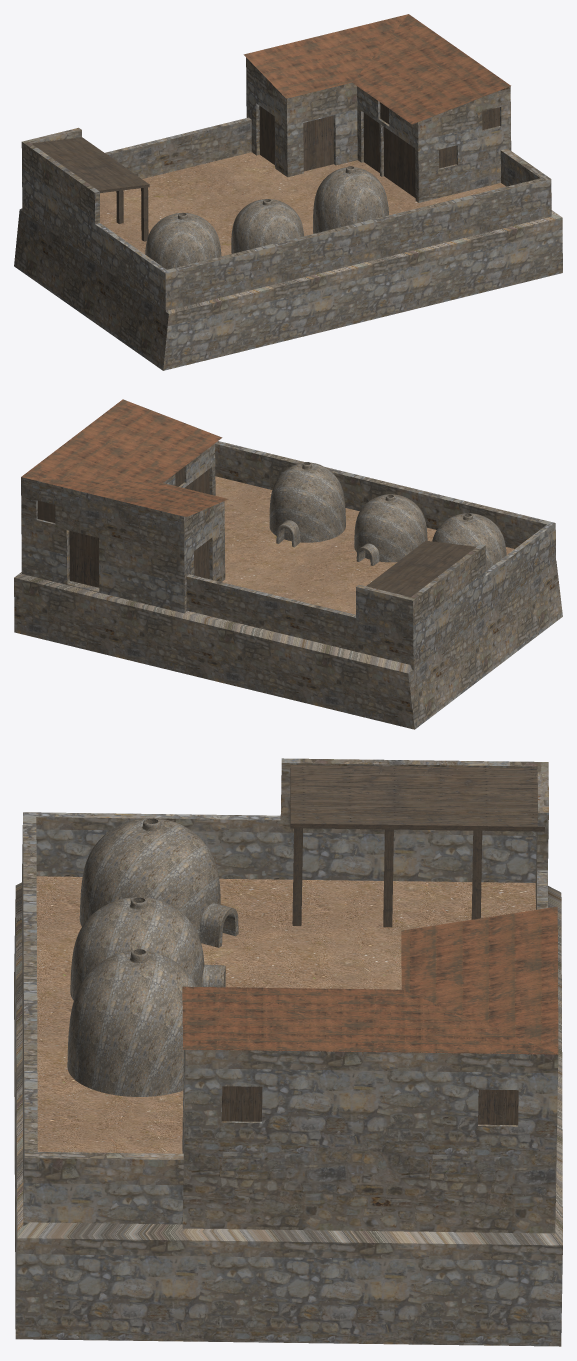
File: Ceramica.glb
The picture shows the model from 3 angles, top to bottom: view 1: azimuth 30°, elevation 25°; view 2: azimuth 150°, elevation 25°; view 3: azimuth 270°, elevation 25°; orthographic projection. The views are drawn at different scales.
Parts seen in each view (by area): view 1: Alfar; view 2: Alfar; view 3: Alfar.
Boxes of the visible parts, bbox=[...] form: Alfar: bbox=[14, 14, 562, 370]; Alfar: bbox=[14, 399, 562, 729]; Alfar: bbox=[14, 758, 562, 1346].
Bounding box in the file's own units: 17.56 × 6.67 × 11.36.
4 materials, 4 textured.
